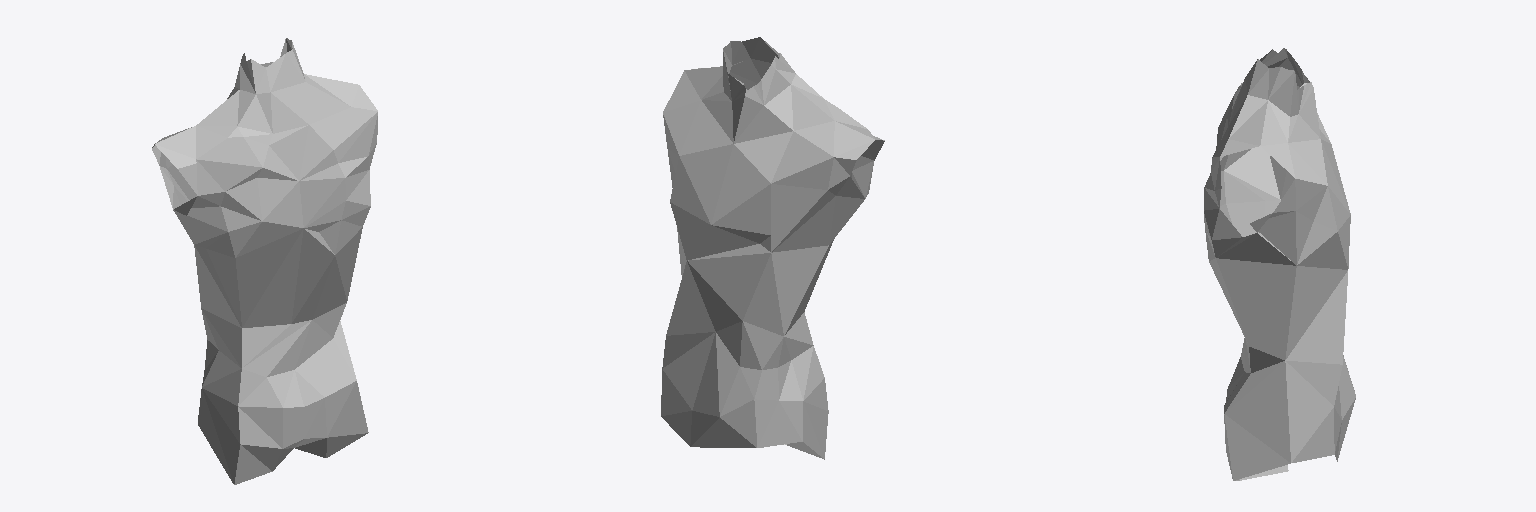
Rendered from chest.obj.
The picture shows the model from 3 angles: view 1: azimuth 30°, elevation 25°; view 2: azimuth 150°, elevation 25°; view 3: azimuth 270°, elevation 25°; orthographic projection.
Parts seen in each view (by area): view 1: chest.001_Superhot_Enemy_Stl.033; view 2: chest.001_Superhot_Enemy_Stl.033; view 3: chest.001_Superhot_Enemy_Stl.033.
Part boxes in pixels (x1,y1,x2,y2): chest.001_Superhot_Enemy_Stl.033: (152,38,377,484); chest.001_Superhot_Enemy_Stl.033: (661,37,884,459); chest.001_Superhot_Enemy_Stl.033: (1204,48,1355,480).
Bounding box in the file's own units: 39.75 × 75.13 × 25.15.